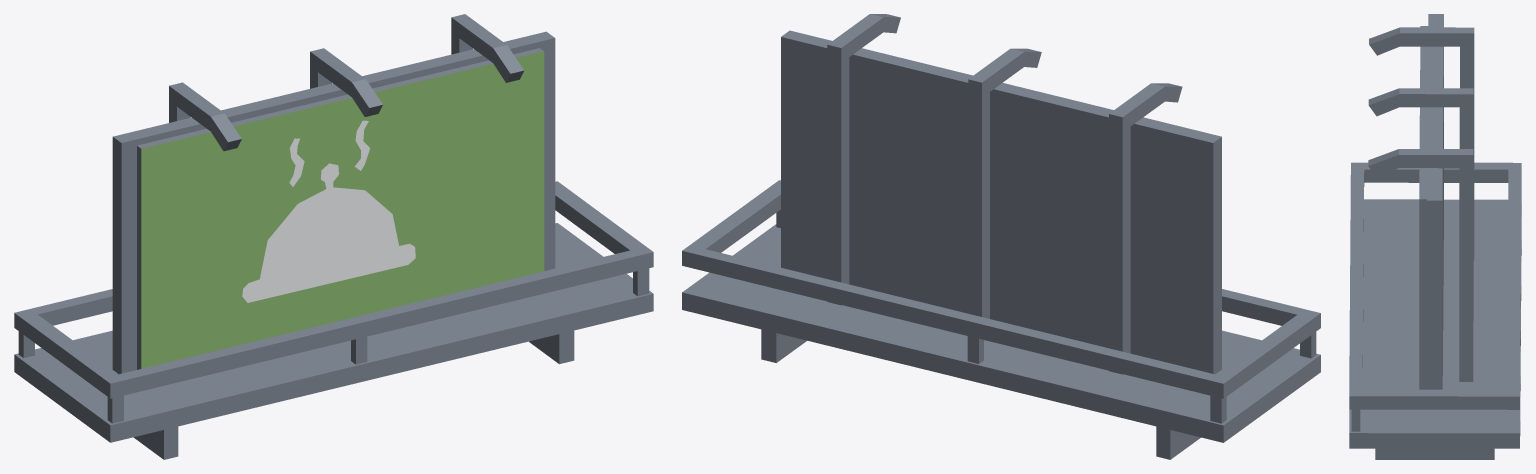
The model's file is Building_Objects_Bilboard_01.fbx.
The picture shows the model from 3 angles, left to right: view 1: azimuth 30°, elevation 25°; view 2: azimuth 150°, elevation 25°; view 3: azimuth 270°, elevation 25°; orthographic projection. The views are drawn at different scales.
Visible parts, largest first — view 1: Building_Objects_Bilboard_01; view 2: Building_Objects_Bilboard_01; view 3: Building_Objects_Bilboard_01.
Boxes of the visible parts, left/top/right/bottom form: Building_Objects_Bilboard_01: left=14, top=14, right=653, bottom=459; Building_Objects_Bilboard_01: left=682, top=14, right=1320, bottom=459; Building_Objects_Bilboard_01: left=1349, top=14, right=1521, bottom=459.
Bounding box in the file's own units: 513 × 288 × 160.
